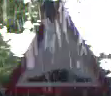Speed Breaker ahead: (6, 6, 106, 95)
